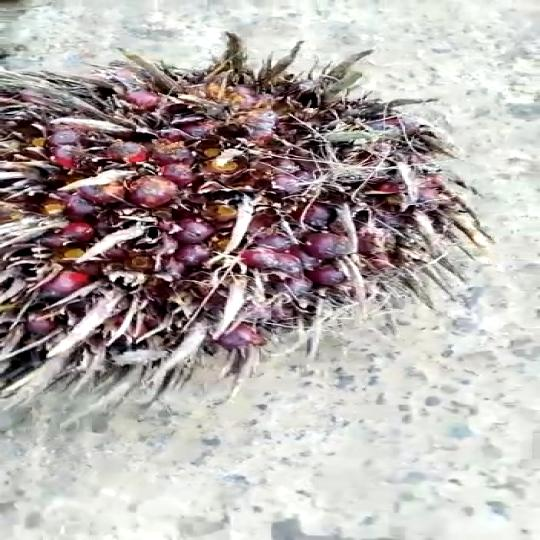terlalu masak: (0, 32, 500, 443)
